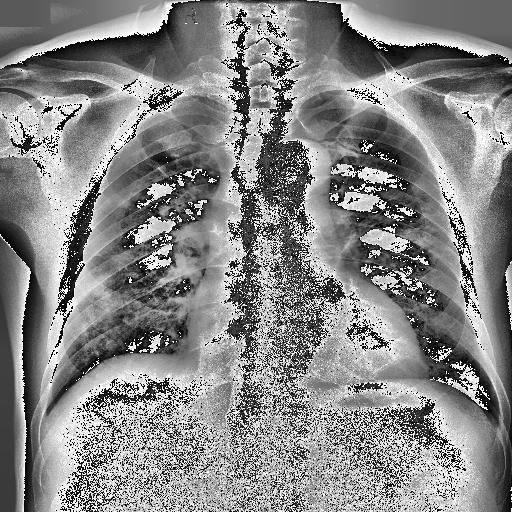0- Aortic enlargement: (266, 139, 332, 208), (258, 138, 330, 201), (264, 136, 332, 192)
11- Pleural thickening: (172, 84, 238, 101), (298, 84, 346, 106)
13- Pulmonary fibrosis: (314, 182, 456, 286), (334, 184, 441, 258), (122, 160, 213, 231), (114, 164, 216, 224), (337, 190, 413, 260)
3- Cardiomegaly: (178, 300, 426, 380), (184, 299, 424, 379), (183, 314, 426, 376)
6- Infiltration: (314, 182, 456, 286), (72, 270, 155, 358), (122, 160, 213, 231)
7- Lung Opacity: (80, 254, 174, 356), (72, 270, 155, 358)
8- Nodule-Mass: (386, 188, 404, 204), (395, 220, 414, 234), (378, 214, 396, 228), (133, 184, 148, 200), (170, 198, 185, 210), (407, 246, 420, 258), (184, 192, 196, 202), (118, 200, 130, 208), (180, 214, 191, 222), (133, 300, 141, 309), (104, 288, 112, 296), (158, 254, 166, 262), (132, 192, 140, 200), (372, 242, 380, 250), (160, 215, 168, 222), (92, 328, 100, 335), (145, 182, 153, 188), (132, 272, 140, 278), (162, 210, 170, 216), (172, 175, 178, 181), (101, 327, 107, 331)
9- Other lesion: (80, 254, 174, 356), (334, 184, 441, 258), (114, 164, 216, 224)
